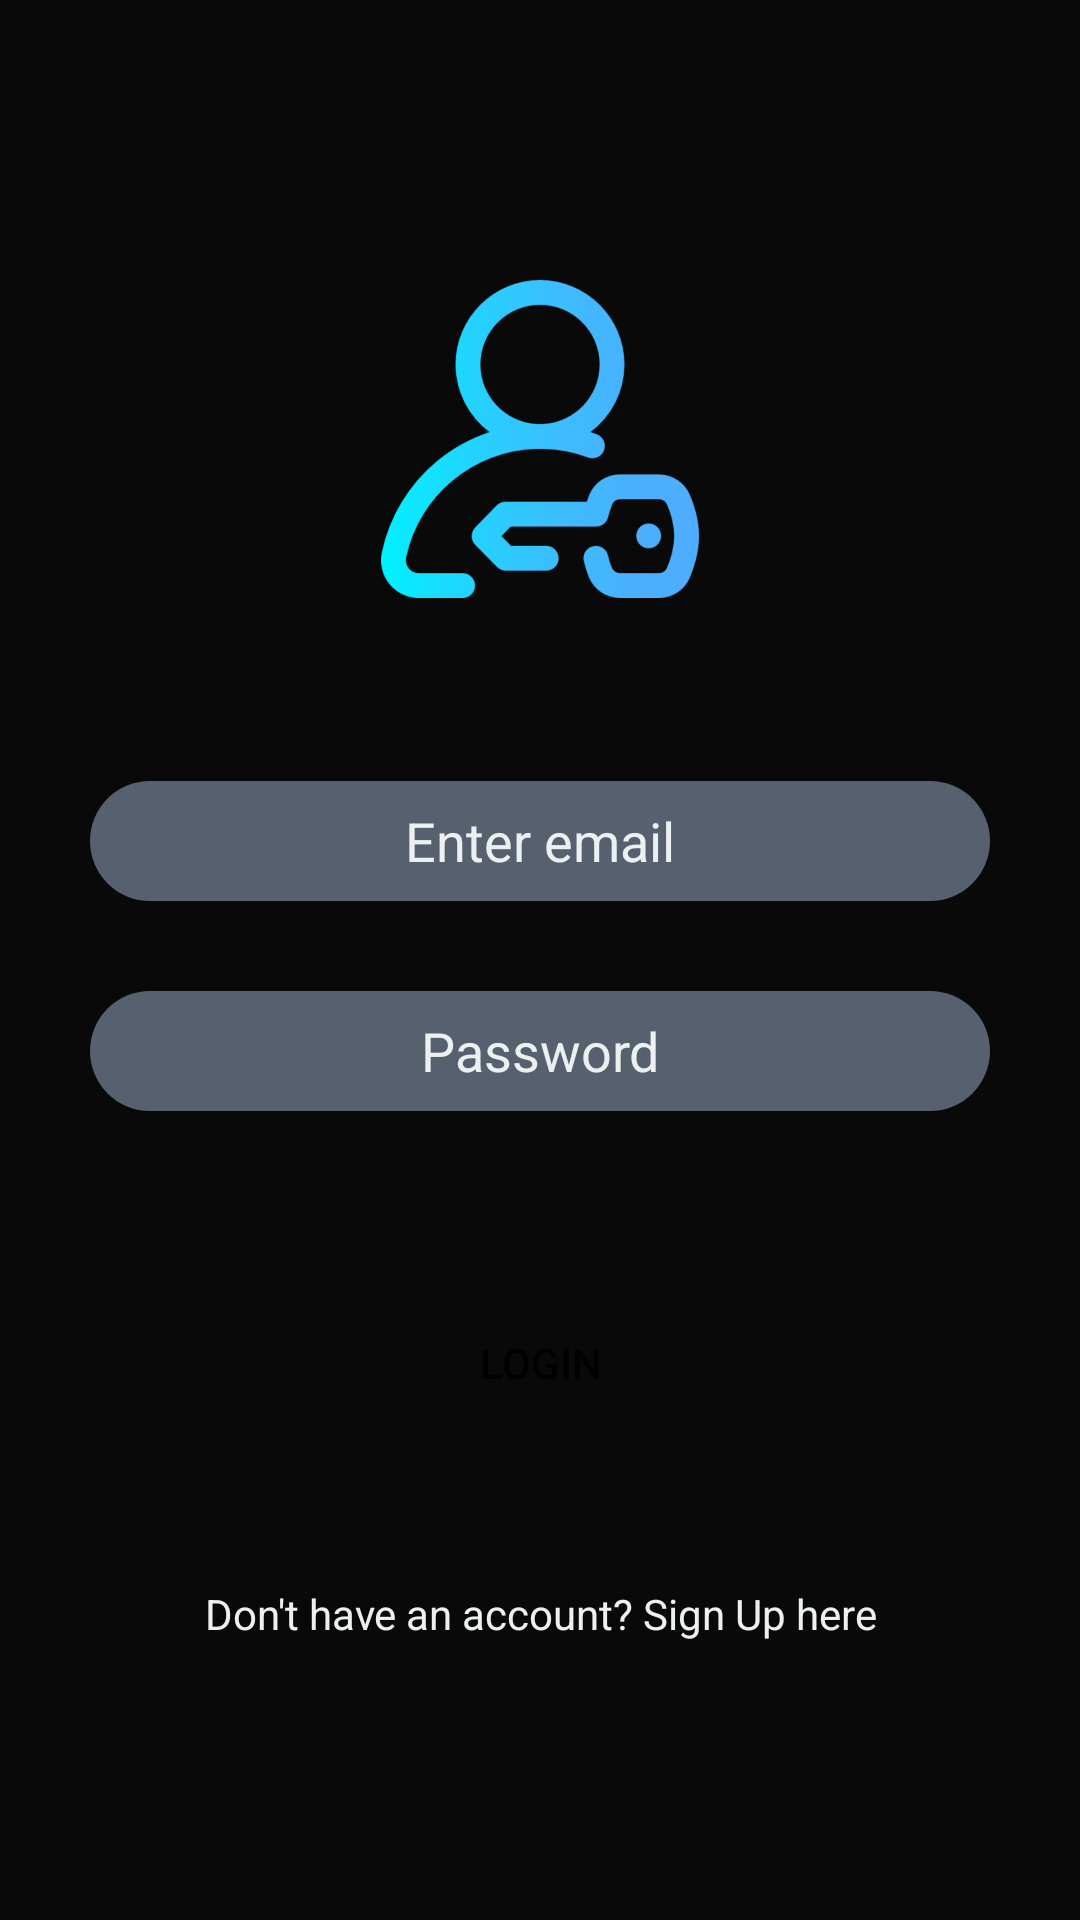

Screen size 1080x1920. Icon name, then its box in pixels as (x1, y1, x2, y2):
logiin: (381, 280, 699, 598)
